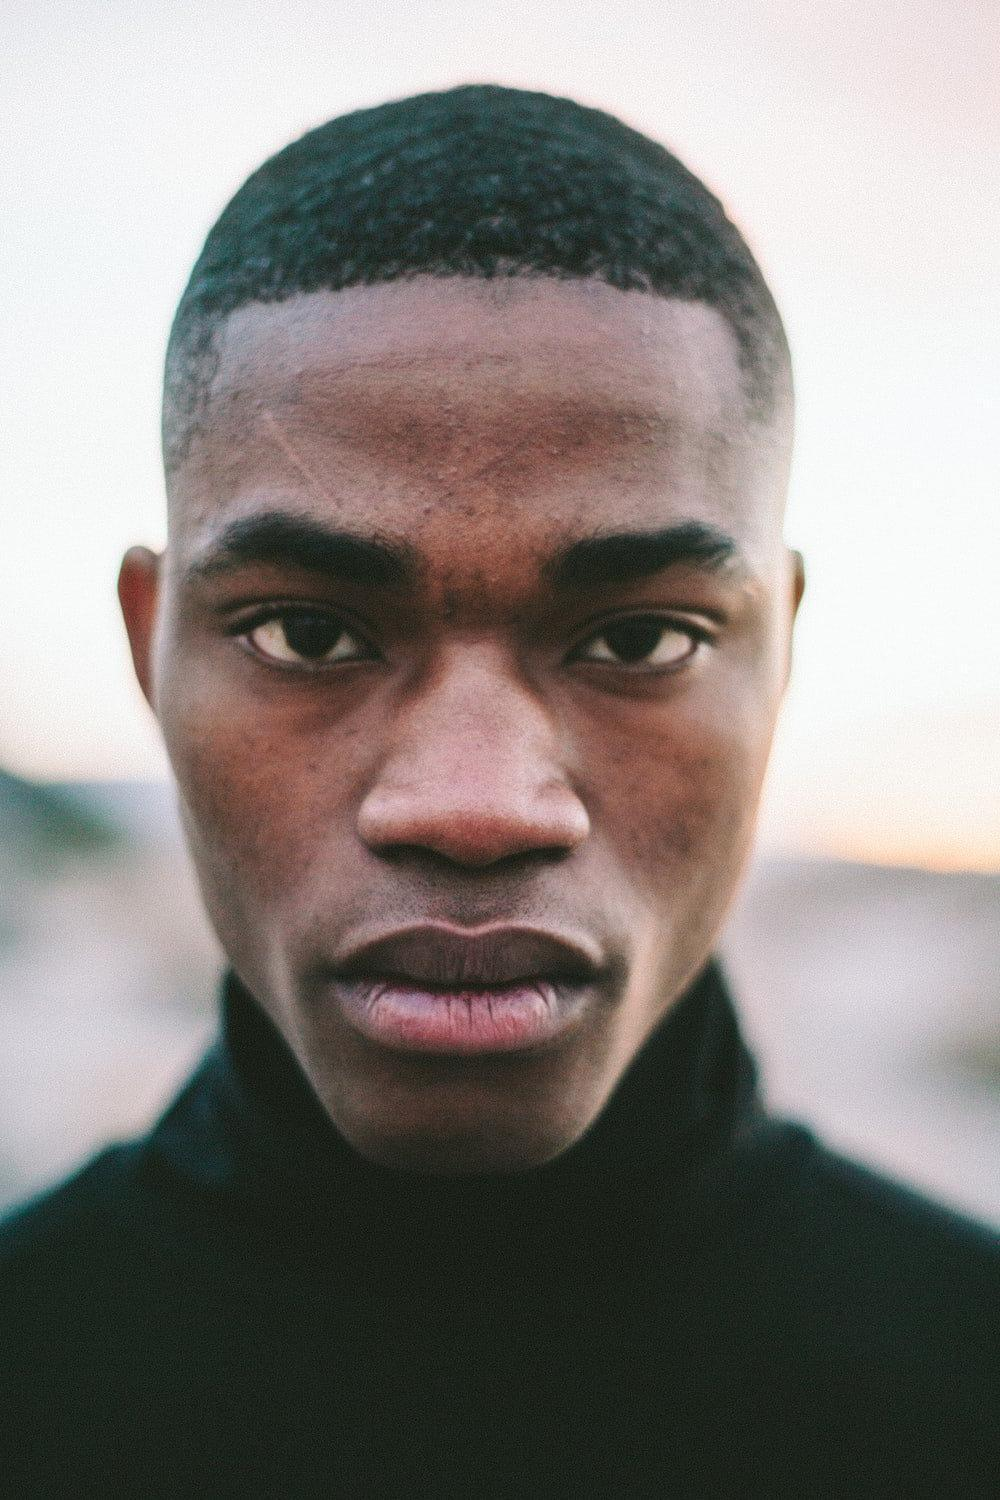Sober: (187, 301, 773, 1127)
